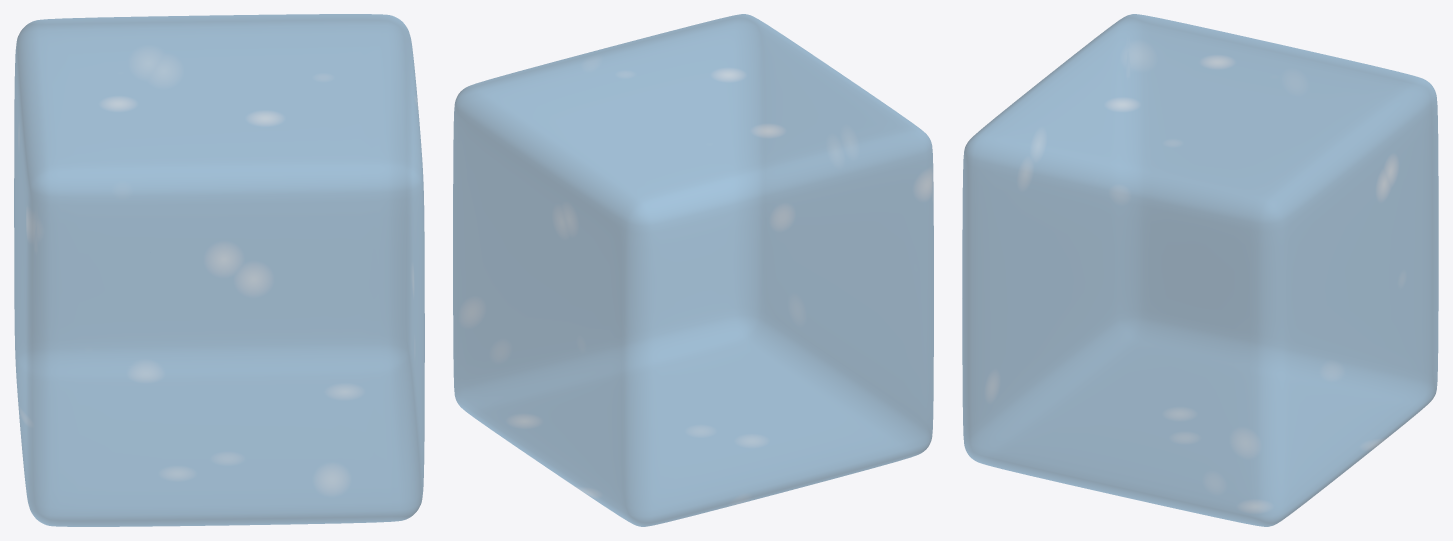
The model's file is ice-cube.glb.
3 renders of one model, left to right at view 1: azimuth 30°, elevation 25°; view 2: azimuth 150°, elevation 25°; view 3: azimuth 270°, elevation 25°, orthographic. The views are drawn at different scales.
Visible parts, largest first — view 1: Ice_Cube_Master; view 2: Ice_Cube_Master; view 3: Ice_Cube_Master.
Part boxes in pixels (box(x1,y1,x2,y2)): Ice_Cube_Master: box(14, 14, 424, 526); Ice_Cube_Master: box(453, 14, 933, 526); Ice_Cube_Master: box(962, 14, 1438, 526).
Size of the model in its own units: 0.036 by 0.028 by 0.036.
Materials: 1 (1 with a texture image).
